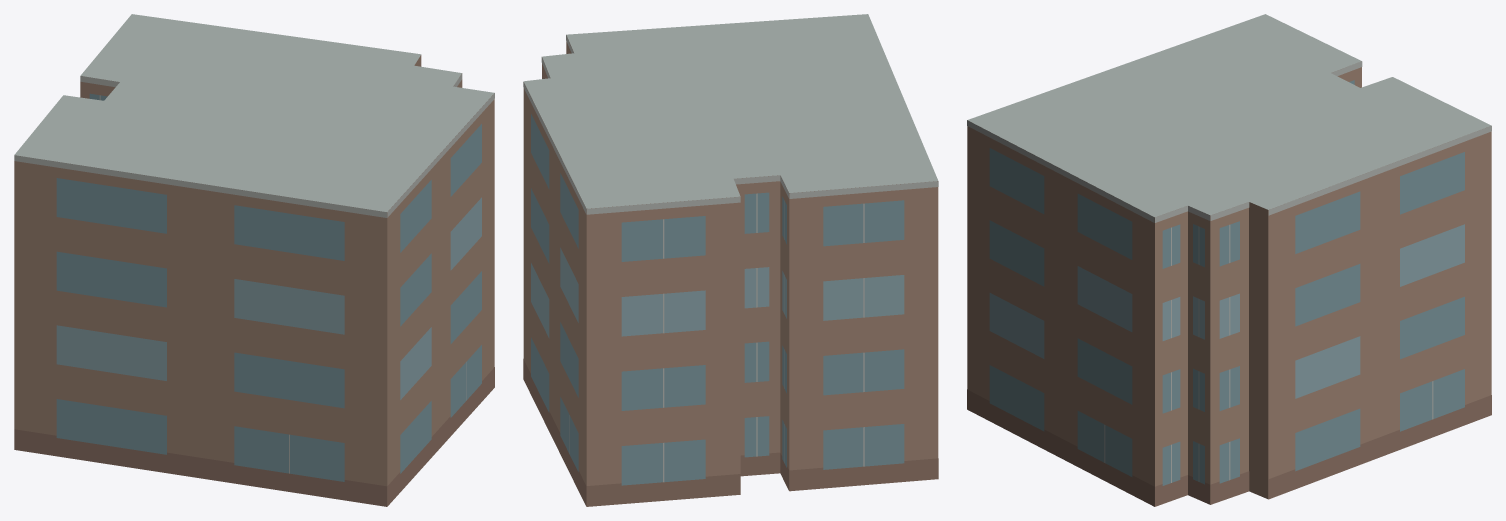
Rendered from survey-upis-32844002.glb.
3 renders of one model, left to right at view 1: azimuth 30°, elevation 25°; view 2: azimuth 150°, elevation 25°; view 3: azimuth 270°, elevation 25°, orthographic. The views are drawn at different scales.
Parts seen in each view (by area): view 1: survey-upis-32844002.tmp; view 2: survey-upis-32844002.tmp; view 3: survey-upis-32844002.tmp.
Part boxes in pixels (x1,y1,x2,y2): survey-upis-32844002.tmp: (14,14,494,506); survey-upis-32844002.tmp: (523,14,938,506); survey-upis-32844002.tmp: (967,14,1491,506).
Size of the model in its own units: 18.39 by 12.2 by 20.04.
